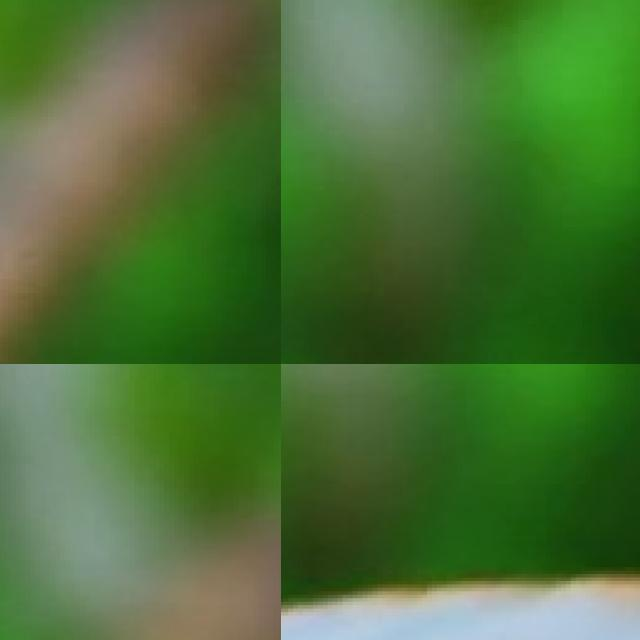fish: (0, 0, 281, 364), (281, 505, 640, 640)
